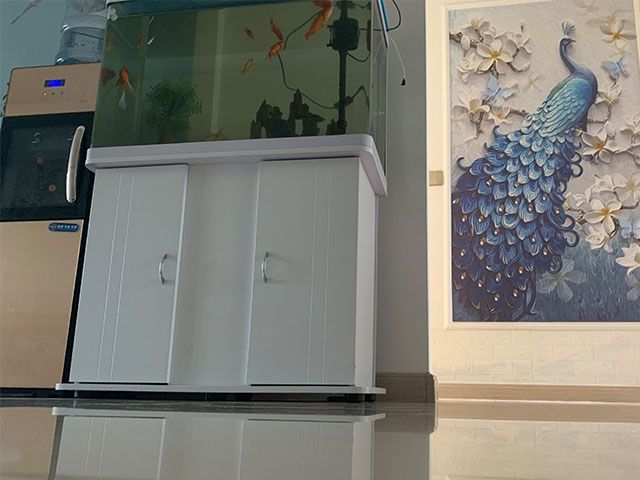cabinet: (55, 132, 388, 404)
